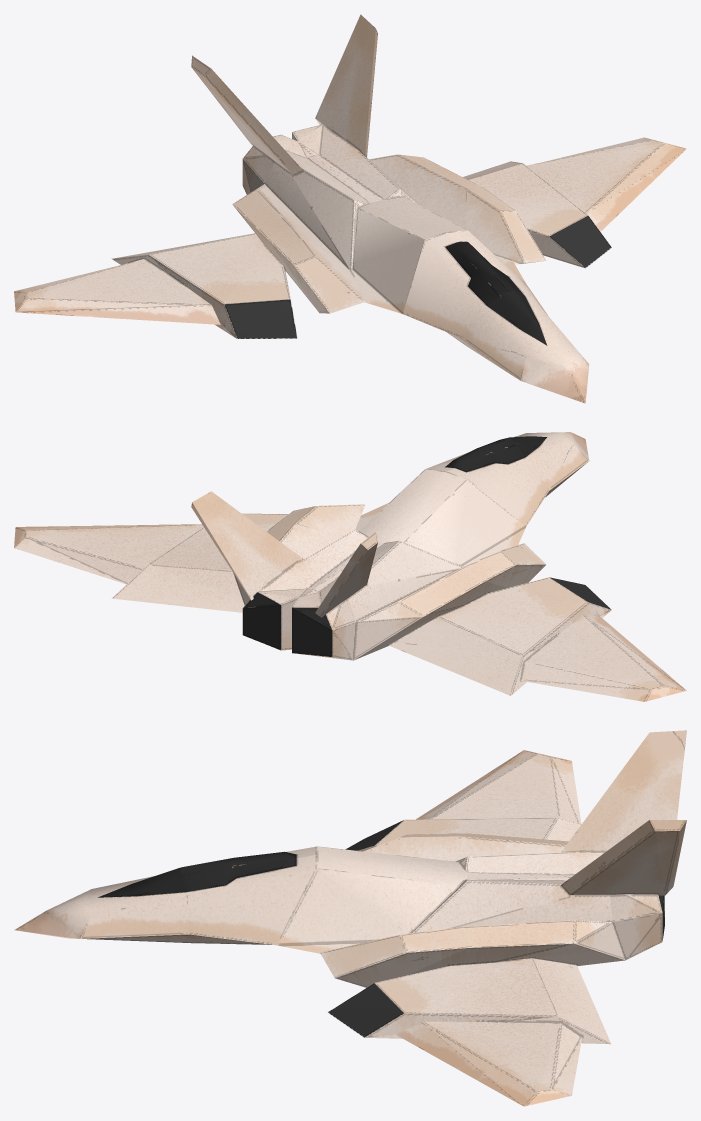
The model's file is SpaceShipEnemy3.fbx.
3 views of the same model, one above another, from view 1: azimuth 30°, elevation 25°; view 2: azimuth 150°, elevation 25°; view 3: azimuth 270°, elevation 25° (orthographic). The views are drawn at different scales.
Visible parts, largest first — view 1: SpaceShipLP; view 2: SpaceShipLP; view 3: SpaceShipLP.
Part boxes in pixels (x1=…): SpaceShipLP: x1=14, y1=14, x2=686, y2=403; SpaceShipLP: x1=14, y1=432, x2=686, y2=701; SpaceShipLP: x1=14, y1=730, x2=686, y2=1106.
Size of the model in its own units: 1288 by 278 by 1027.
1 material, 1 textured.
